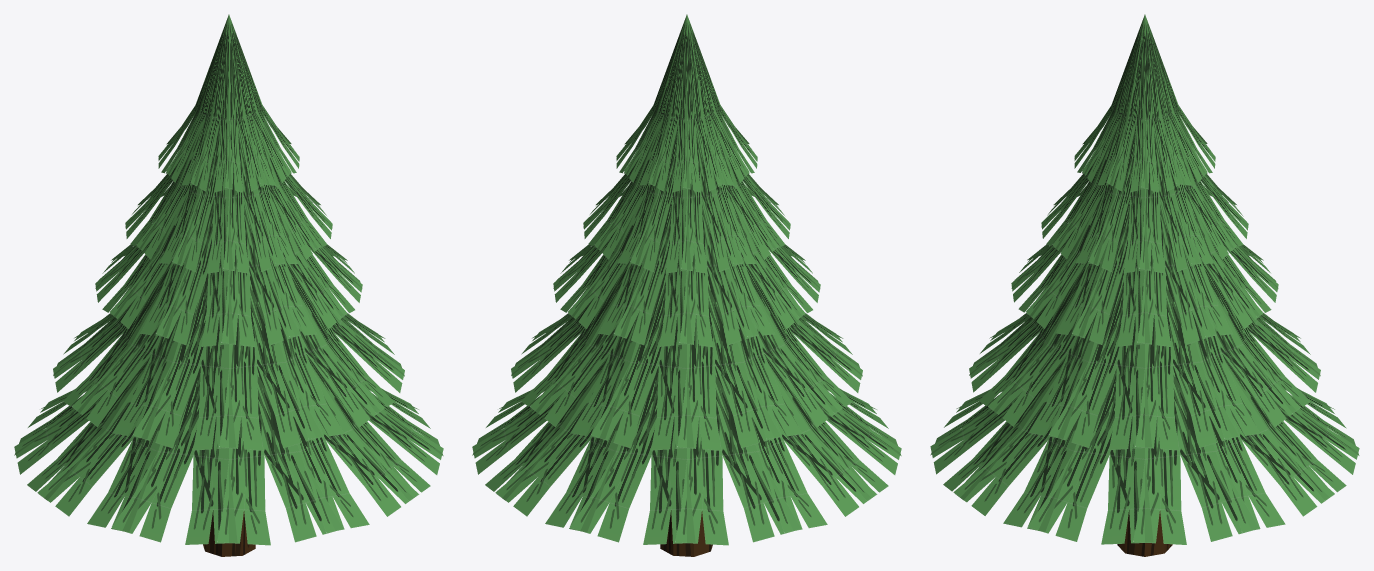
The model's file is treeFinal 1.fbx.
The picture shows the model from 3 angles, left to right: view 1: azimuth 30°, elevation 25°; view 2: azimuth 150°, elevation 25°; view 3: azimuth 270°, elevation 25°; orthographic projection.
Visible parts, largest first — view 1: polySurface73, pCylinder86; view 2: polySurface73, pCylinder86; view 3: polySurface73, pCylinder86.
Boxes of the visible parts, bbox=[...] form: polySurface73: bbox=[14, 14, 443, 545]; pCylinder86: bbox=[203, 510, 255, 556]; polySurface73: bbox=[472, 14, 901, 545]; pCylinder86: bbox=[660, 510, 712, 556]; polySurface73: bbox=[930, 14, 1359, 544]; pCylinder86: bbox=[1117, 510, 1172, 556].
Size of the model in its own units: 4.67 by 6.37 by 4.67.
Materials: 2 (2 with a texture image).
